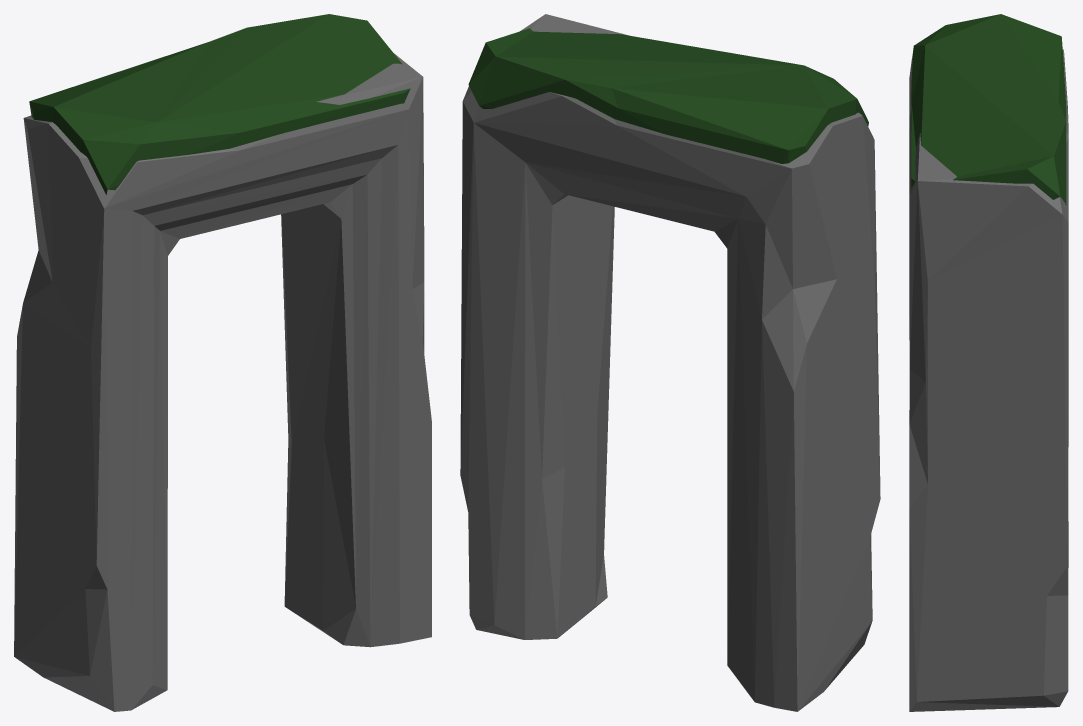
Rendered from SM_doorframe_jungle_01.fbx.
3 renders of one model, left to right at view 1: azimuth 30°, elevation 25°; view 2: azimuth 150°, elevation 25°; view 3: azimuth 270°, elevation 25°, orthographic. The views are drawn at different scales.
Parts seen in each view (by area): view 1: Object039; view 2: Object039; view 3: Object039.
Part boxes in pixels (x1,y1,x2,y2): Object039: (14, 14, 431, 711); Object039: (460, 14, 880, 711); Object039: (909, 14, 1068, 711).
Size of the model in its own units: 90.21 by 148 by 39.
